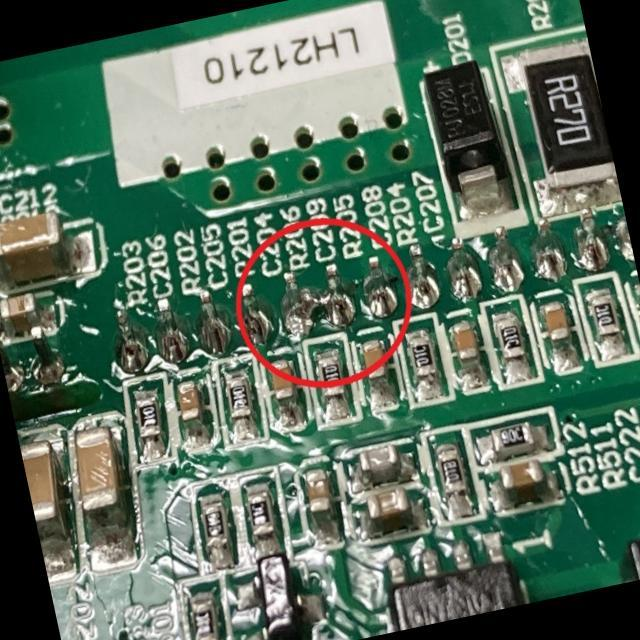Short_circuit: (284, 265, 355, 338)
